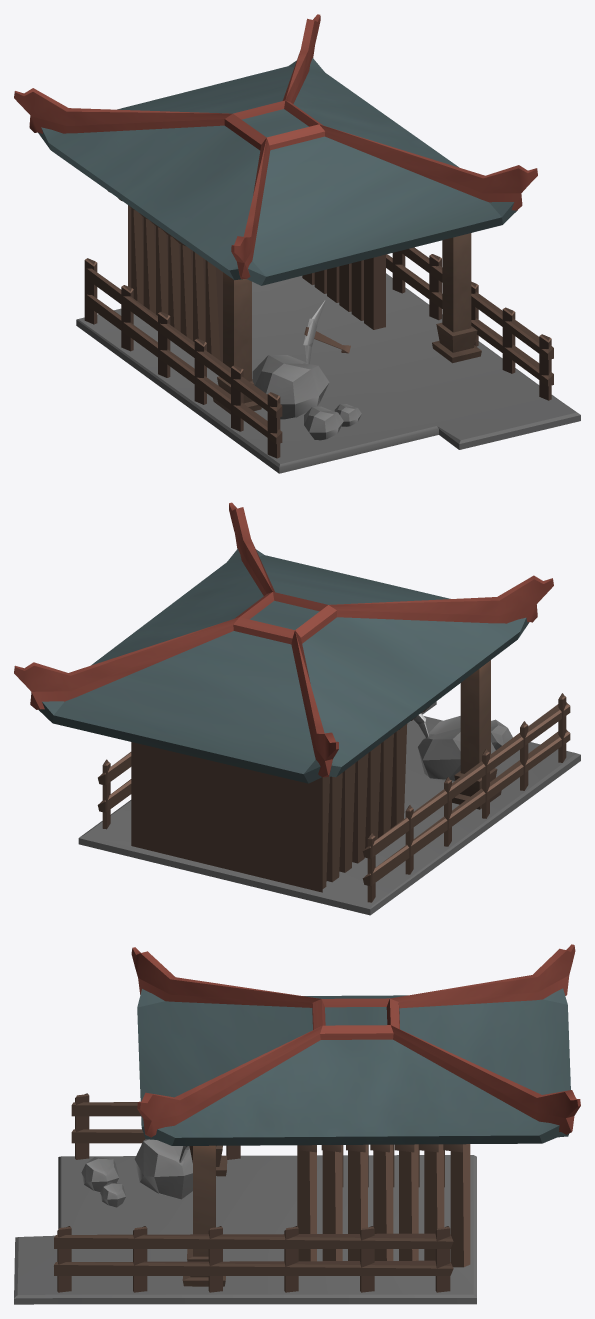
The model's file is mine_1lvl.fbx.
The picture shows the model from 3 angles, top to bottom: view 1: azimuth 30°, elevation 25°; view 2: azimuth 150°, elevation 25°; view 3: azimuth 270°, elevation 25°; orthographic projection. The views are drawn at different scales.
Visible parts, largest first — view 1: mine_1lvl; view 2: mine_1lvl; view 3: mine_1lvl.
Part boxes in pixels (<box>): mine_1lvl: <box>14,14,580,473</box>; mine_1lvl: <box>14,502,580,915</box>; mine_1lvl: <box>14,944,580,1304</box>.
Size of the model in its own units: 4.47 by 2.91 by 6.73.
1 material, 1 textured.
